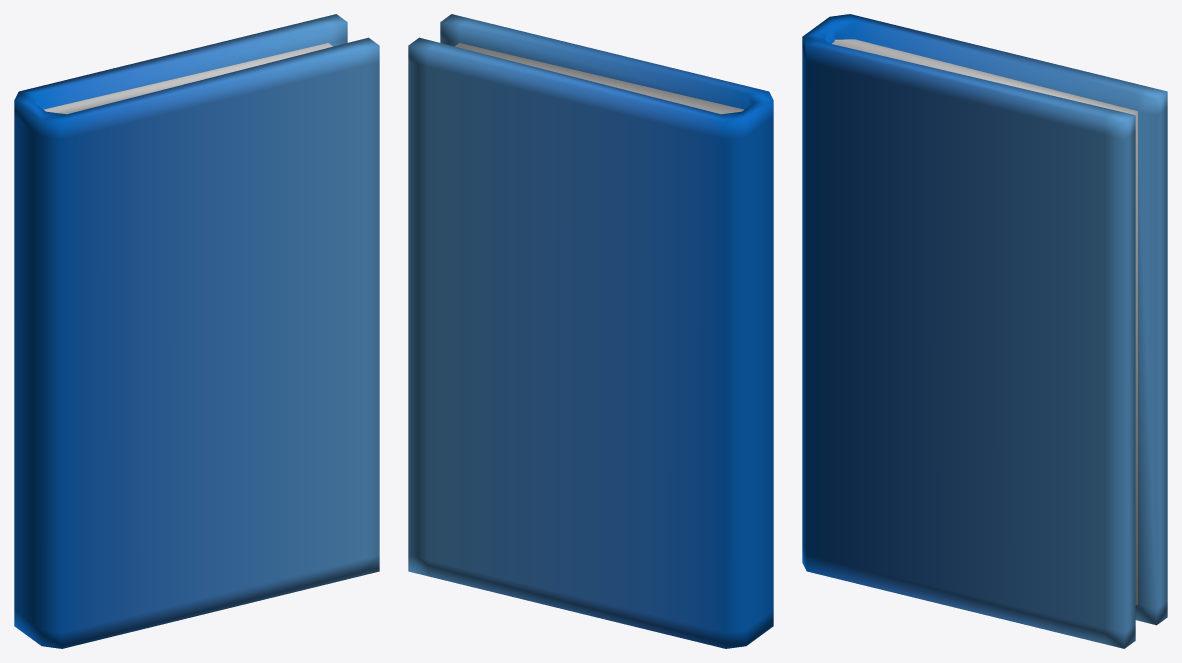
File: Book2.fbx
3 views of the same model, side by side, from view 1: azimuth 30°, elevation 25°; view 2: azimuth 150°, elevation 25°; view 3: azimuth 330°, elevation 25° (orthographic).
Parts seen in each view (by area): view 1: Plane.163; view 2: Plane.163; view 3: Plane.163.
Part boxes in pixels (x1,y1,x2,y2): Plane.163: (14,14,379,648); Plane.163: (408,14,773,648); Plane.163: (802,14,1167,648).
Bounding box in the file's own units: 38.77 × 58.99 × 8.82.
